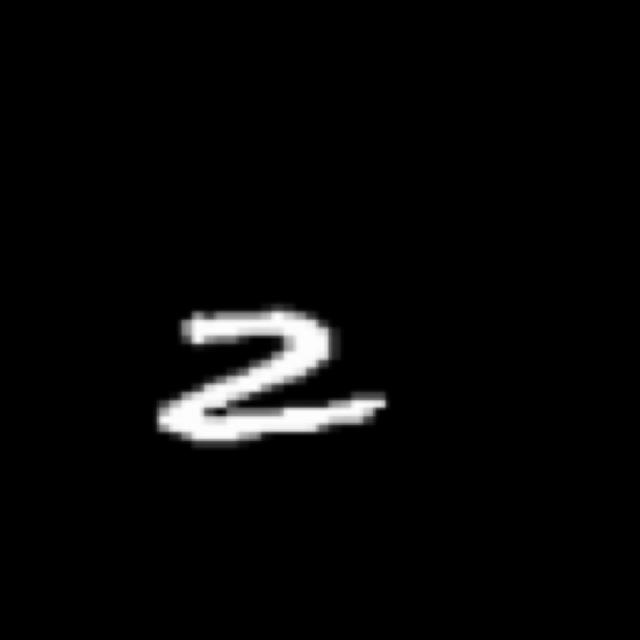two -2-: (144, 301, 401, 441)
